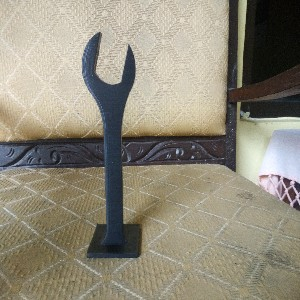spanner: (81, 31, 143, 260)
